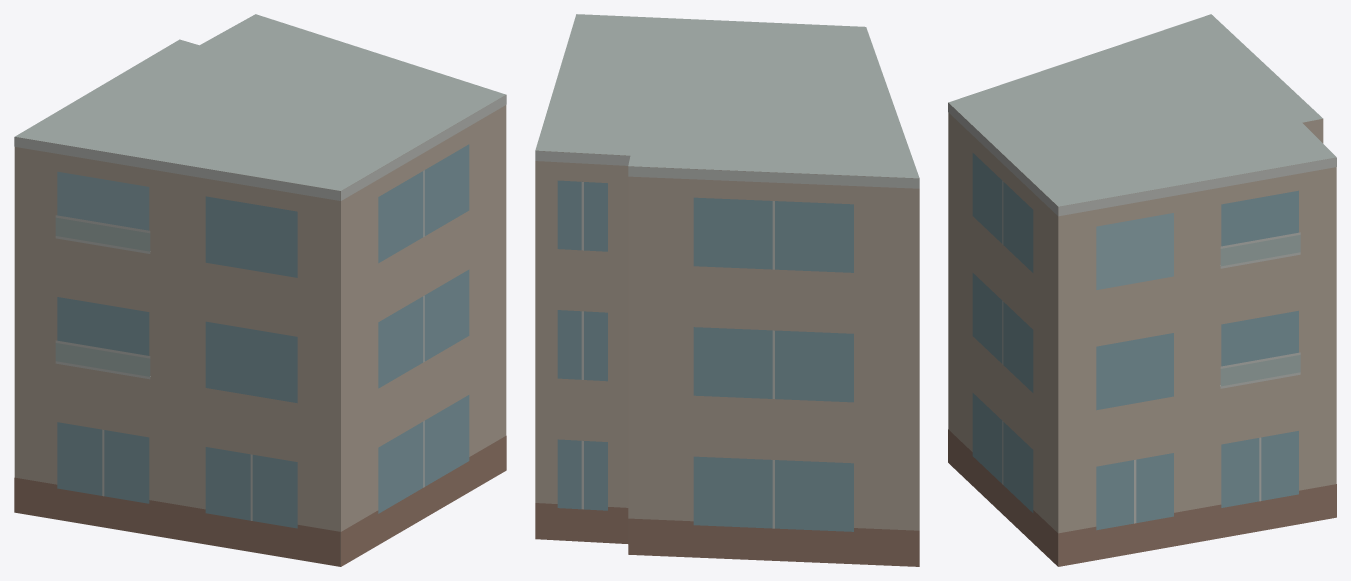
Rendered from survey-upis-32505692.glb.
The picture shows the model from 3 angles, left to right: view 1: azimuth 30°, elevation 25°; view 2: azimuth 150°, elevation 25°; view 3: azimuth 270°, elevation 25°; orthographic projection. The views are drawn at different scales.
Visible parts, largest first — view 1: survey-upis-32505692.tmp; view 2: survey-upis-32505692.tmp; view 3: survey-upis-32505692.tmp.
Boxes of the visible parts, bbox=[...] form: survey-upis-32505692.tmp: bbox=[14, 14, 506, 566]; survey-upis-32505692.tmp: bbox=[535, 14, 919, 566]; survey-upis-32505692.tmp: bbox=[948, 14, 1336, 566].
Bounding box in the file's own units: 10.45 × 9.1 × 8.91.
